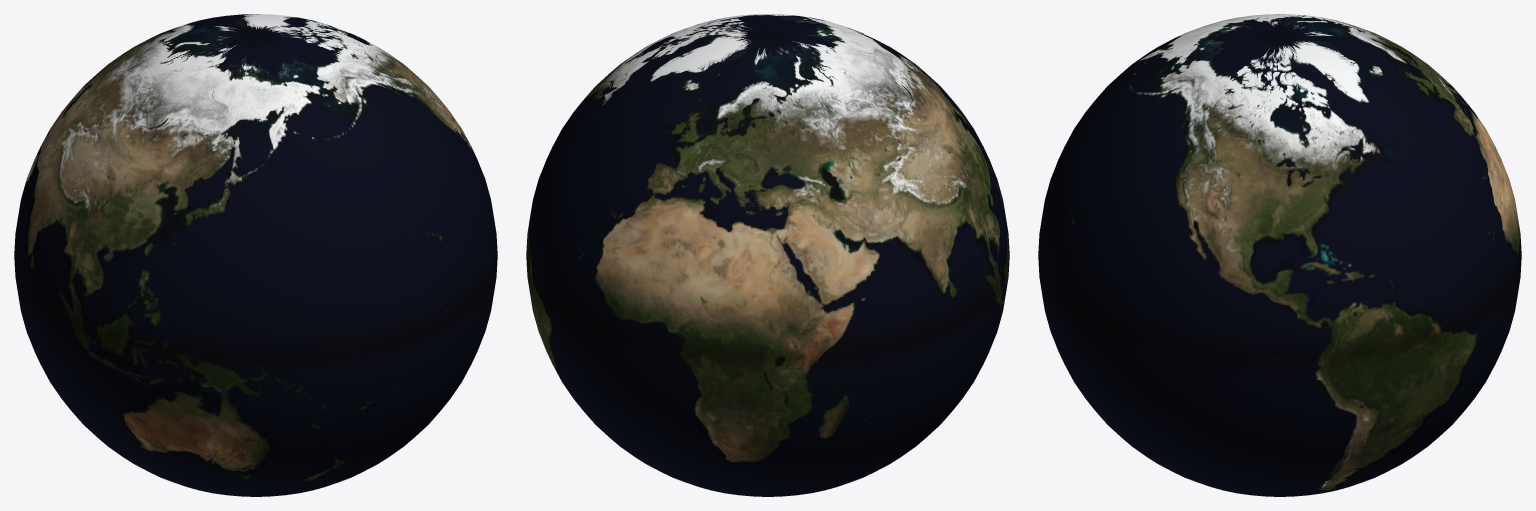
The model's file is high_res_earth.glb.
3 renders of one model, left to right at view 1: azimuth 30°, elevation 25°; view 2: azimuth 150°, elevation 25°; view 3: azimuth 270°, elevation 25°, orthographic.
Visible parts, largest first — view 1: Sphere; view 2: Sphere; view 3: Sphere.
Boxes of the visible parts, x1=… form: Sphere: x1=14, y1=14, x2=497, y2=496; Sphere: x1=526, y1=14, x2=1009, y2=496; Sphere: x1=1038, y1=14, x2=1521, y2=496.
Size of the model in its own units: 19.8 by 19.8 by 19.8.
Materials: 1 (1 with a texture image).
